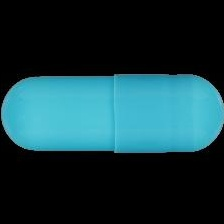63304-693: (0, 0, 224, 224)
